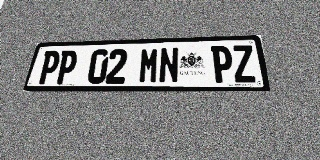0: (86, 49, 110, 84)
2: (105, 49, 128, 84)
M: (138, 48, 159, 83)
N: (158, 47, 179, 83)
P: (36, 51, 62, 84), (211, 46, 234, 83), (54, 50, 79, 84)
Z: (231, 45, 257, 83)
